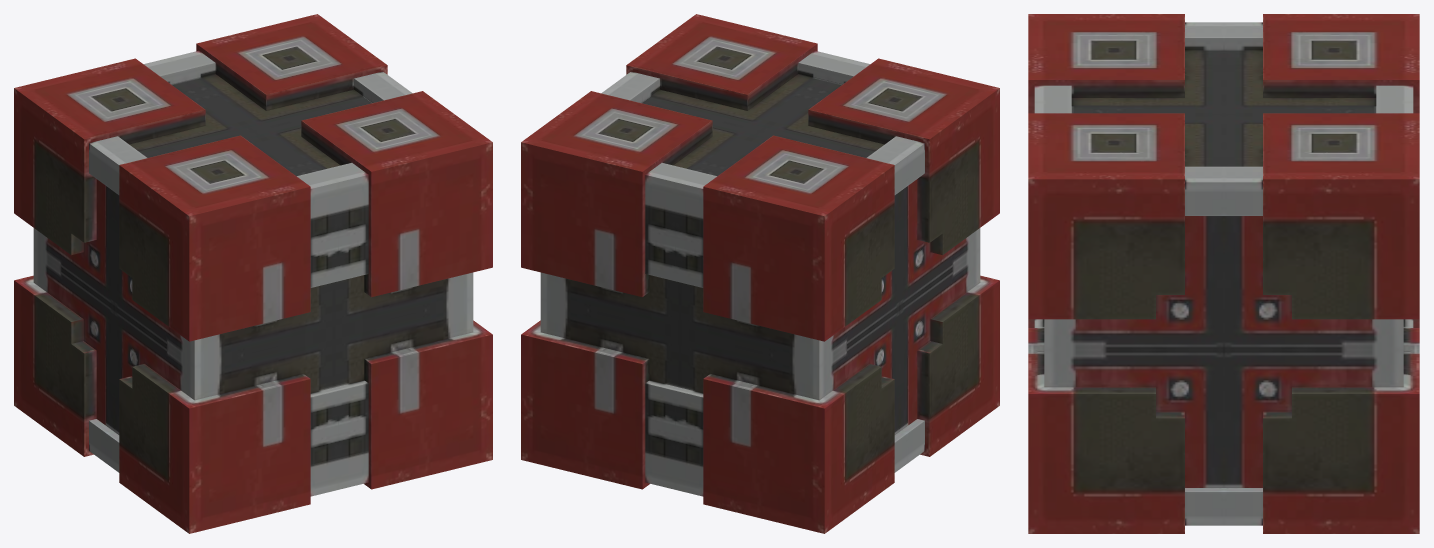
The picture shows the model from 3 angles, left to right: view 1: azimuth 30°, elevation 25°; view 2: azimuth 150°, elevation 25°; view 3: azimuth 270°, elevation 25°; orthographic projection. The views are drawn at different scales.
Parts seen in each view (by area): view 1: box2; view 2: box2; view 3: box2.
Boxes of the visible parts, left/top/right/bottom form: box2: left=14, top=14, right=492, bottom=533; box2: left=521, top=14, right=999, bottom=533; box2: left=1028, top=14, right=1419, bottom=533.
Size of the model in its own units: 1 by 1 by 1.
Materials: 1 (1 with a texture image).
